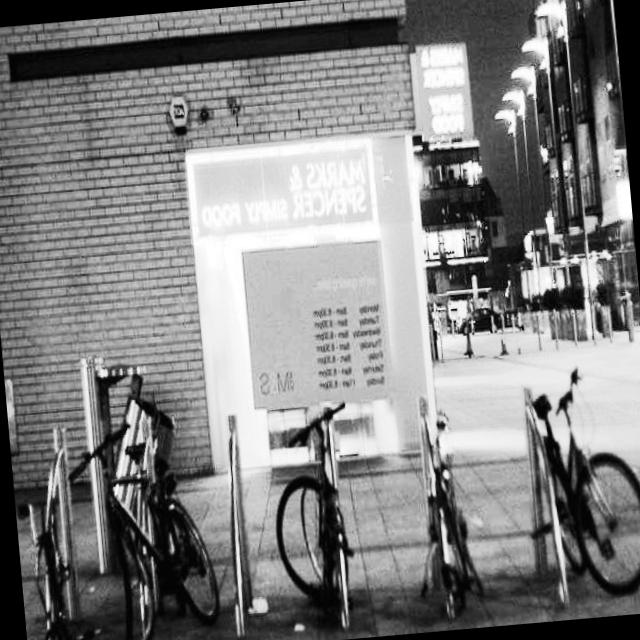Bicycle: (85, 372, 218, 640), (520, 348, 630, 622), (268, 361, 365, 640), (6, 398, 95, 640), (398, 386, 482, 633)
